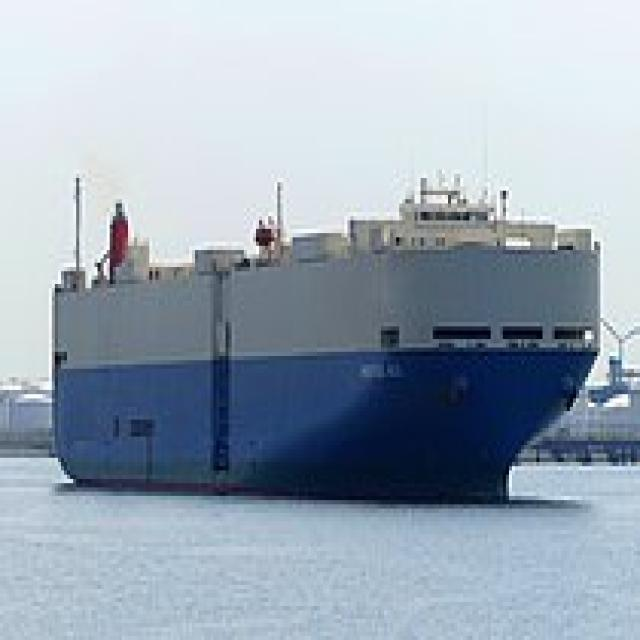Carrier: (46, 170, 603, 508)
